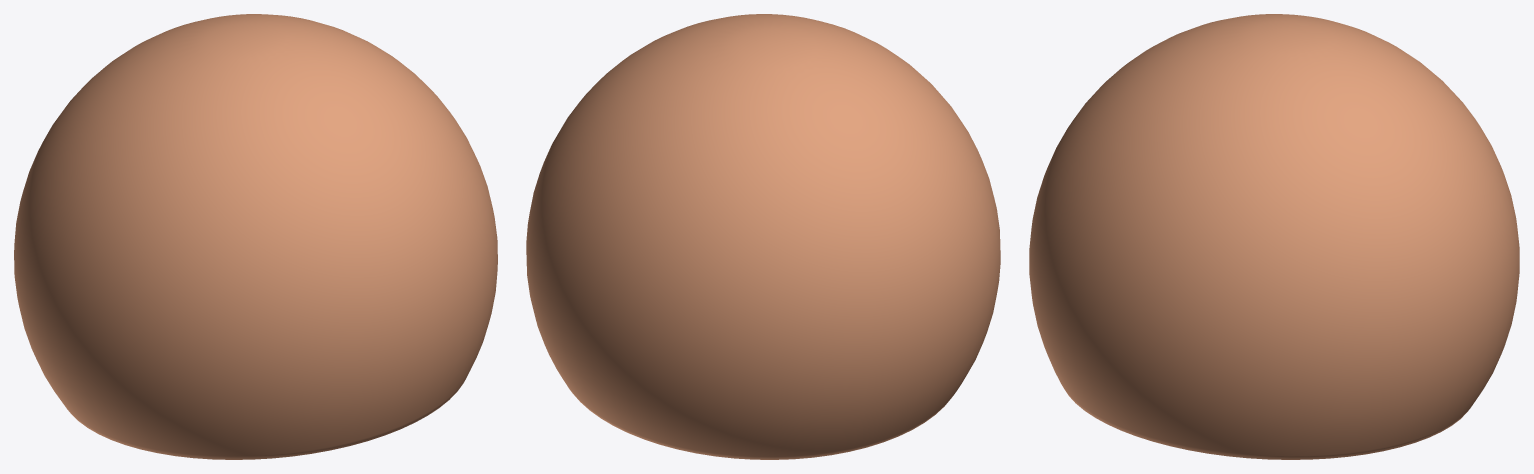
3 renders of one model, left to right at view 1: azimuth 30°, elevation 25°; view 2: azimuth 150°, elevation 25°; view 3: azimuth 270°, elevation 25°, orthographic. The views are drawn at different scales.
Parts seen in each view (by area): view 1: 左侧视网膜; view 2: 左侧视网膜; view 3: 左侧视网膜.
Boxes of the visible parts, x1,y1,x2,y2 form: 左侧视网膜: [14, 14, 497, 459]; 左侧视网膜: [526, 14, 1000, 459]; 左侧视网膜: [1029, 14, 1519, 459].
Size of the model in its own units: 0.032 by 0.0256 by 0.032.
